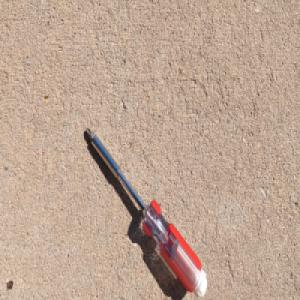Screwdriver: (84, 125, 208, 299)
